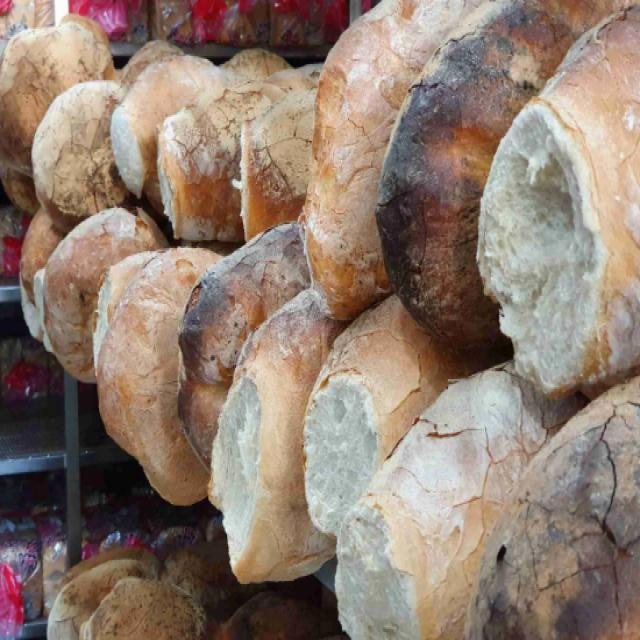Maltese-Bread: (376, 0, 639, 344), (337, 363, 581, 638), (477, 10, 639, 394), (299, 0, 479, 315), (304, 294, 471, 538), (212, 288, 343, 579), (95, 246, 221, 504), (178, 226, 308, 472), (159, 70, 312, 240), (34, 208, 168, 382), (236, 70, 317, 238)
